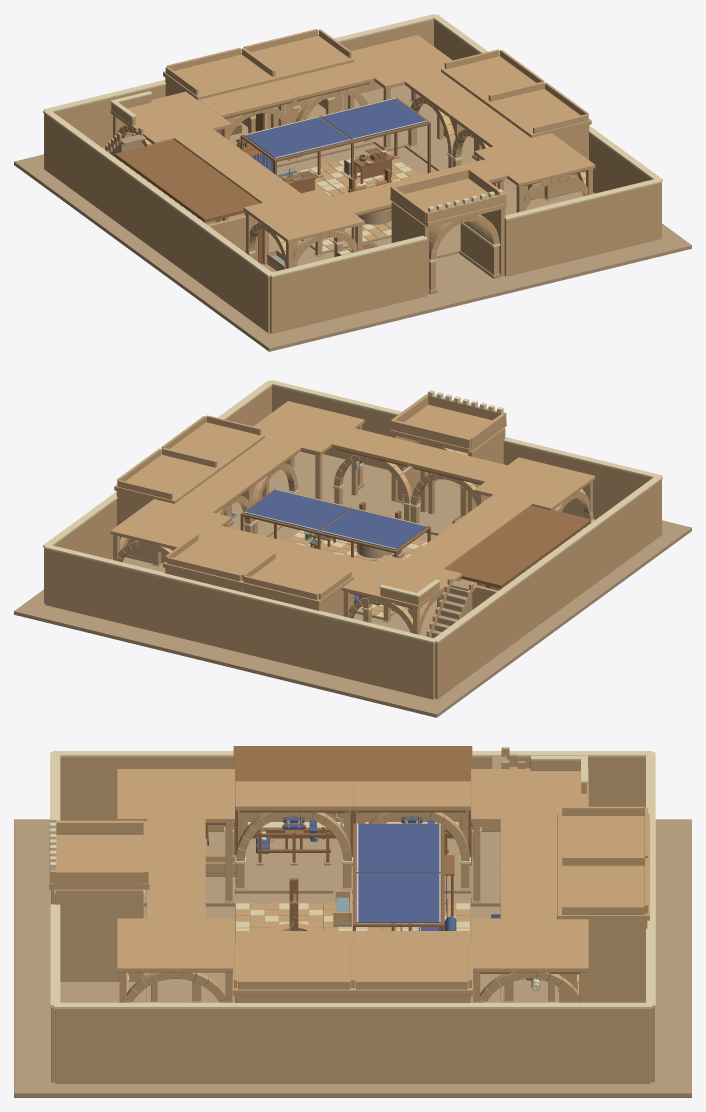
3 renders of one model, top to bottom at view 1: azimuth 30°, elevation 25°; view 2: azimuth 150°, elevation 25°; view 3: azimuth 270°, elevation 25°, orthographic. The views are drawn at different scales.
Parts seen in each view (by area): view 1: 000-caravan-court-base/0, 000-caravan-court-base/2, 029-vaulted-gatehouse/0, 000-caravan-court-base/1, 004-courtyard-arcade-corner/1, 003-courtyard-arcade-corner/1, 033-roofed-merchant-lodging/1, 030-roofed-merchant-lodging/1, 031-roofed-merchant-lodging/1, 001-courtyard-arcade-corner/1, 002-courtyard-arcade-corner/1, 032-roofed-merchant-lodging/1 (+20 smaller); view 2: 000-caravan-court-base/0, 000-caravan-court-base/2, 000-caravan-court-base/1, 029-vaulted-gatehouse/0, 032-roofed-merchant-lodging/1, 001-courtyard-arcade-corner/1, 030-roofed-merchant-lodging/1, 002-courtyard-arcade-corner/1, 004-courtyard-arcade-corner/1, 003-courtyard-arcade-corner/1, 008-courtyard-arcade-straight/1, 031-roofed-merchant-lodging/1 (+19 smaller); view 3: 000-caravan-court-base/0, 000-caravan-court-base/2, 029-vaulted-gatehouse/0, 031-roofed-merchant-lodging/1, 000-caravan-court-base/1, 003-courtyard-arcade-corner/1, 002-courtyard-arcade-corner/1, 004-courtyard-arcade-corner/1, 032-roofed-merchant-lodging/1, 033-roofed-merchant-lodging/1, 001-courtyard-arcade-corner/1, 011-courtyard-arcade-straight/1 (+23 smaller).
Part boxes in pixels (x1,y1,x2,y2): 000-caravan-court-base/0: (44,19,661,333); 000-caravan-court-base/2: (14,84,691,351); 029-vaulted-gatehouse/0: (390,167,506,294); 000-caravan-court-base/1: (43,14,662,277); 004-courtyard-arcade-corner/1: (243,188,364,268); 003-courtyard-arcade-corner/1: (474,133,595,212); 033-roofed-merchant-lodging/1: (486,82,591,200); 030-roofed-merchant-lodging/1: (163,47,277,133); 031-roofed-merchant-lodging/1: (243,29,354,128); 001-courtyard-arcade-corner/1: (110,91,231,146); 002-courtyard-arcade-corner/1: (351,35,452,147); 032-roofed-merchant-lodging/1: (441,49,544,156); 000-caravan-court-base/0: (44,385,661,699); 000-caravan-court-base/2: (14,451,691,717); 000-caravan-court-base/1: (43,380,662,643); 029-vaulted-gatehouse/0: (390,394,506,516); 032-roofed-merchant-lodging/1: (114,448,220,563); 001-courtyard-arcade-corner/1: (341,554,462,634); 030-roofed-merchant-lodging/1: (240,552,354,616); 002-courtyard-arcade-corner/1: (110,499,231,565); 004-courtyard-arcade-corner/1: (474,457,595,526); 003-courtyard-arcade-corner/1: (253,401,364,499); 008-courtyard-arcade-straight/1: (331,428,430,521); 031-roofed-merchant-lodging/1: (163,533,276,591); 000-caravan-court-base/0: (51,757,654,1083); 000-caravan-court-base/2: (14,819,691,1097); 029-vaulted-gatehouse/0: (49,820,149,981); 031-roofed-merchant-lodging/1: (557,856,649,1002); 000-caravan-court-base/1: (50,751,655,1009); 003-courtyard-arcade-corner/1: (117,918,234,1002); 002-courtyard-arcade-corner/1: (471,918,588,1002); 004-courtyard-arcade-corner/1: (117,769,234,901); 032-roofed-merchant-lodging/1: (351,945,472,1002); 033-roofed-merchant-lodging/1: (233,945,354,1002); 001-courtyard-arcade-corner/1: (471,769,588,901); 011-courtyard-arcade-straight/1: (235,781,352,887).
Size of the model in its own units: 22 by 4.5 by 23.
